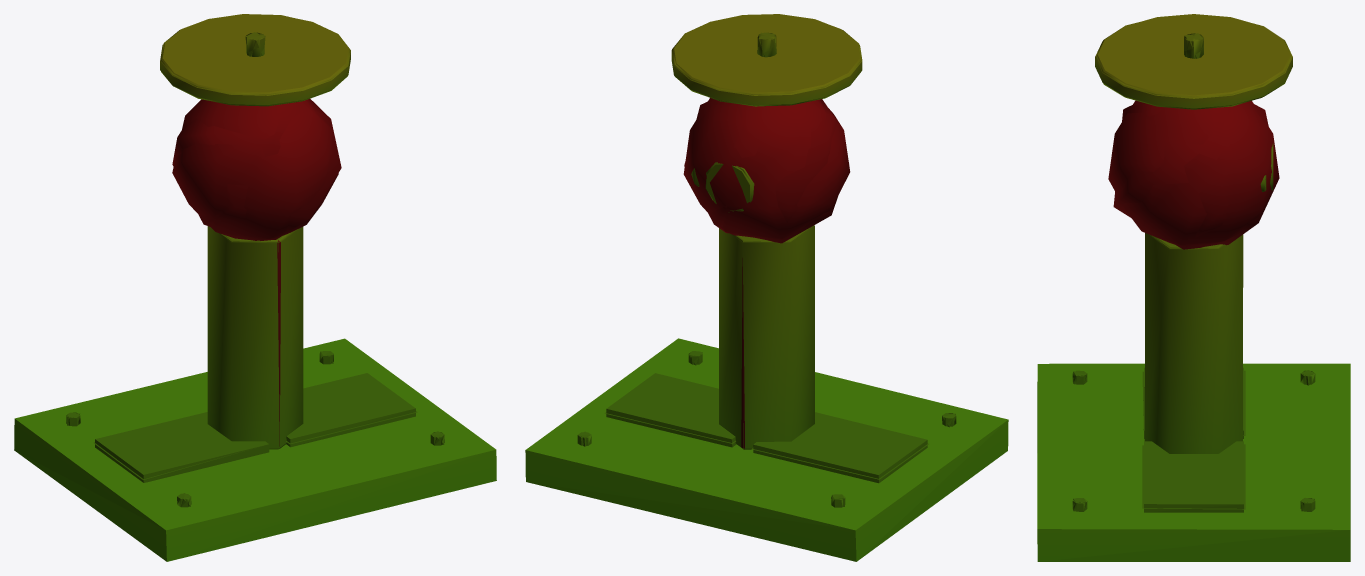
The model's file is RCLModule_command_relay_cyber_nanoweave_aps_LODs.fbx.
3 views of the same model, side by side, from view 1: azimuth 30°, elevation 25°; view 2: azimuth 150°, elevation 25°; view 3: azimuth 270°, elevation 25° (orthographic). The views are drawn at different scales.
Parts seen in each view (by area): view 1: LOD1_RCLModule_command_relay_cyber_nanoweave_aps_Batch_RCLMo (×2), LOD2_RCLModule_command_relay_cyber_nanoweave_aps_Batch_RCLMo (×2); view 2: LOD1_RCLModule_command_relay_cyber_nanoweave_aps_Batch_RCLMo (×3), LOD2_RCLModule_command_relay_cyber_nanoweave_aps_Batch_RCLMo (×2); view 3: LOD1_RCLModule_command_relay_cyber_nanoweave_aps_Batch_RCLMo (×3), LOD2_RCLModule_command_relay_cyber_nanoweave_aps_Batch_RCLMo (×2).
Part boxes in pixels (x1,y1,x2,y2): LOD1_RCLModule_command_relay_cyber_nanoweave_aps_Batch_RCLMo (×2): [14, 14, 496, 561]; LOD2_RCLModule_command_relay_cyber_nanoweave_aps_Batch_RCLMo (×2): [66, 15, 444, 506]; LOD1_RCLModule_command_relay_cyber_nanoweave_aps_Batch_RCLMo (×3): [525, 14, 1008, 561]; LOD2_RCLModule_command_relay_cyber_nanoweave_aps_Batch_RCLMo (×2): [578, 14, 955, 506]; LOD1_RCLModule_command_relay_cyber_nanoweave_aps_Batch_RCLMo (×3): [1037, 14, 1350, 561]; LOD2_RCLModule_command_relay_cyber_nanoweave_aps_Batch_RCLMo (×2): [1073, 22, 1314, 511].
Bounding box in the file's own units: 29.77 × 36.96 × 23.75.
